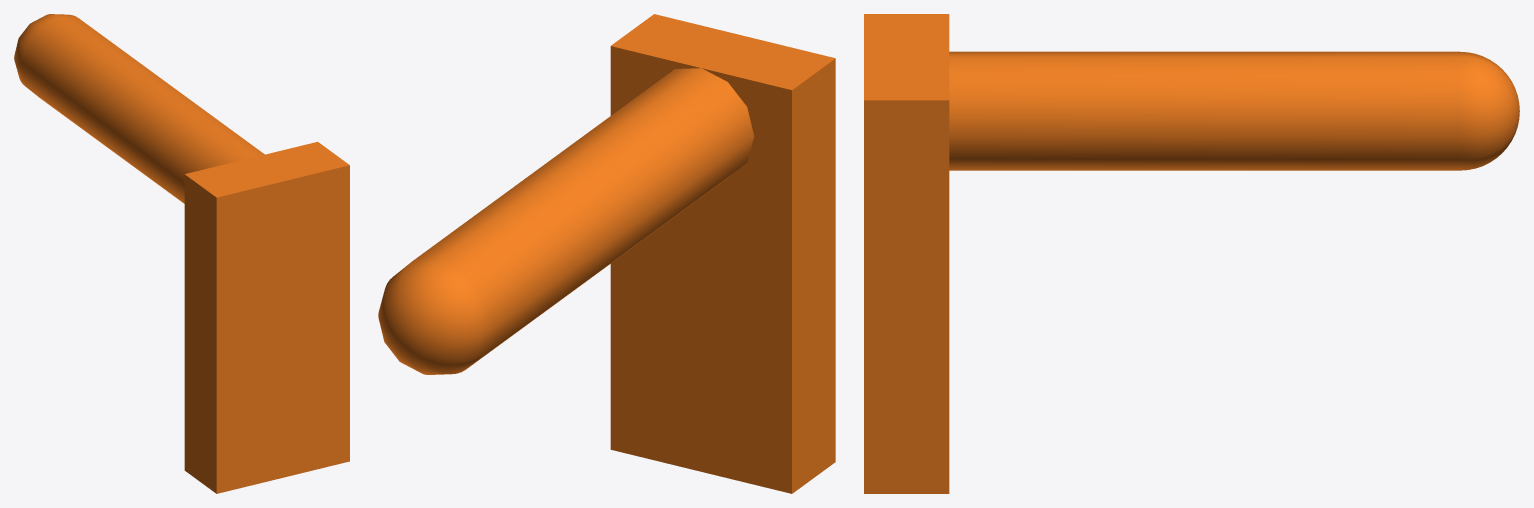
3 views of the same model, side by side, from view 1: azimuth 30°, elevation 25°; view 2: azimuth 150°, elevation 25°; view 3: azimuth 270°, elevation 25° (orthographic). The views are drawn at different scales.
Visible parts, largest first — view 1: gripper_frame; view 2: gripper_frame; view 3: gripper_frame.
Part boxes in pixels (x1,y1,x2,y2): gripper_frame: [14, 14, 349, 493]; gripper_frame: [378, 14, 835, 493]; gripper_frame: [864, 14, 1519, 493].
Size of the model in its own units: 0.024 by 0.051 by 0.077.
